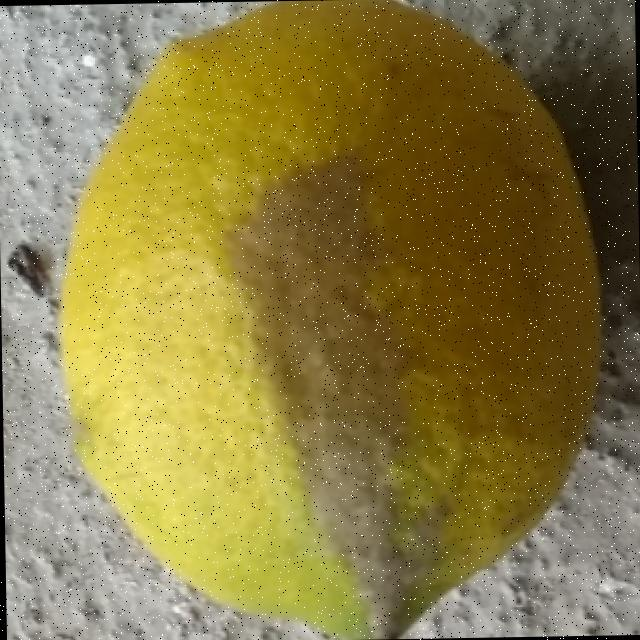overripe: (35, 0, 608, 640)
